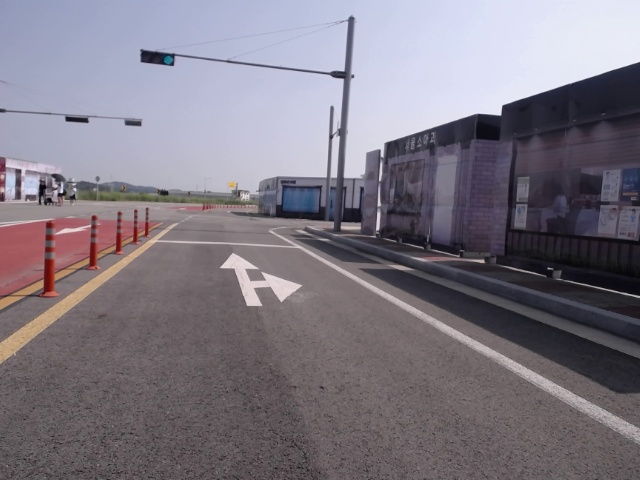green_3: (139, 50, 175, 66)
